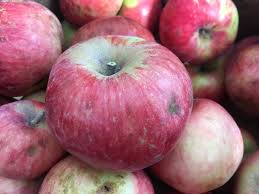damaged_apple: (47, 45, 192, 158), (161, 100, 244, 192), (3, 4, 67, 83), (3, 100, 68, 174), (44, 154, 152, 192)
